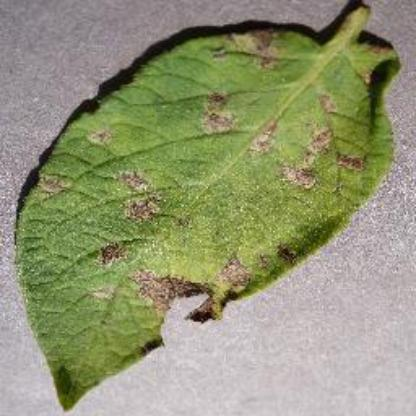Early-Blight: (15, 0, 416, 414)
